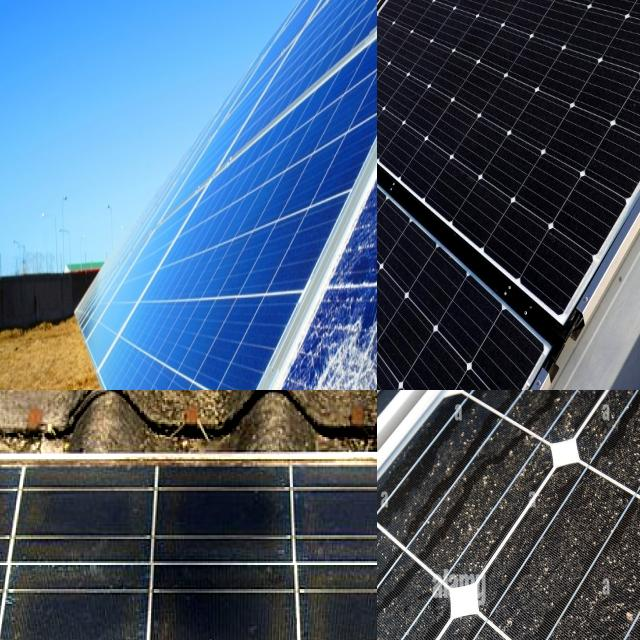crack: (377, 0, 640, 337), (377, 117, 615, 390), (377, 17, 475, 343), (377, 0, 484, 108), (377, 0, 434, 70)
dust: (523, 495, 639, 640), (416, 447, 520, 571), (377, 555, 420, 640)
shadow: (156, 454, 289, 558), (18, 464, 151, 554), (7, 561, 142, 640), (156, 566, 291, 640), (295, 468, 377, 555), (303, 560, 377, 640), (0, 466, 67, 553), (0, 572, 58, 640)
